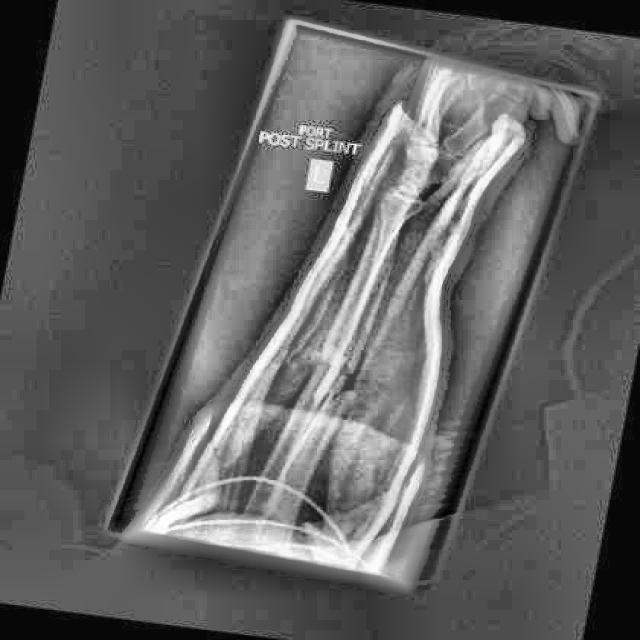forearm fracture: (274, 316, 394, 430)
